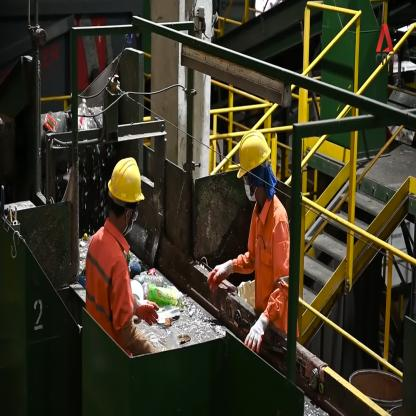Glass Bottle: (147, 283, 185, 311), (136, 274, 165, 286)
